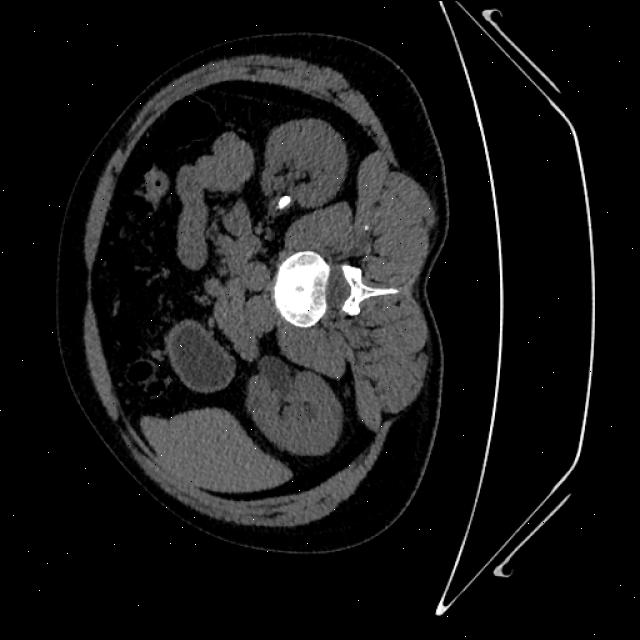kidneystone: (271, 194, 295, 215)
